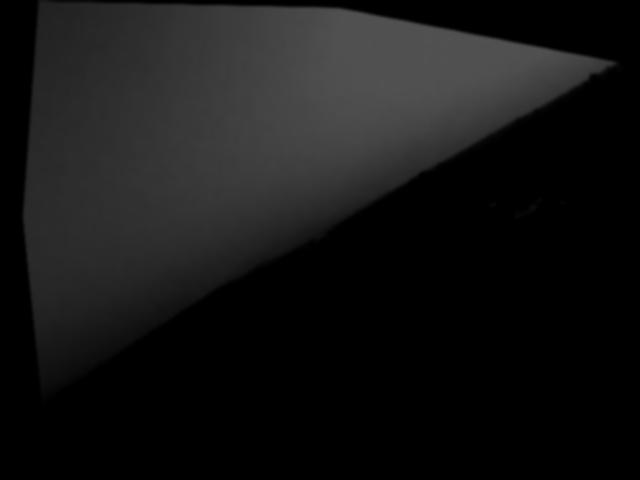hedef: (471, 159, 573, 249)
